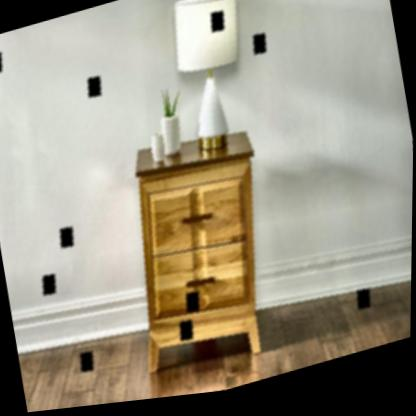Nightstand: (107, 121, 291, 394)
